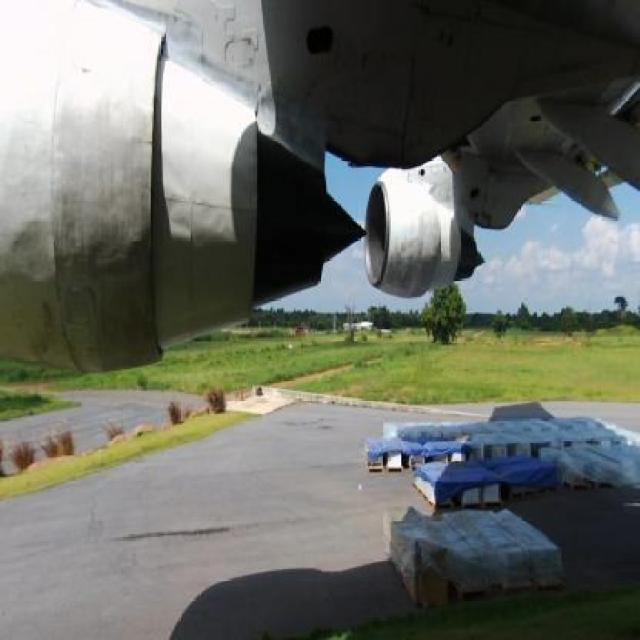Scartch: (60, 117, 154, 300), (388, 223, 424, 294)
